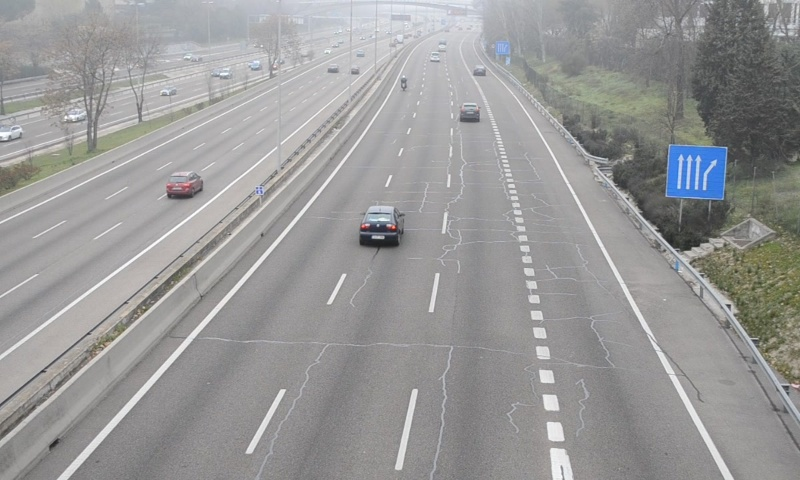car: (358, 206, 403, 247), (459, 102, 481, 123)
motorcycle: (400, 74, 407, 92)
